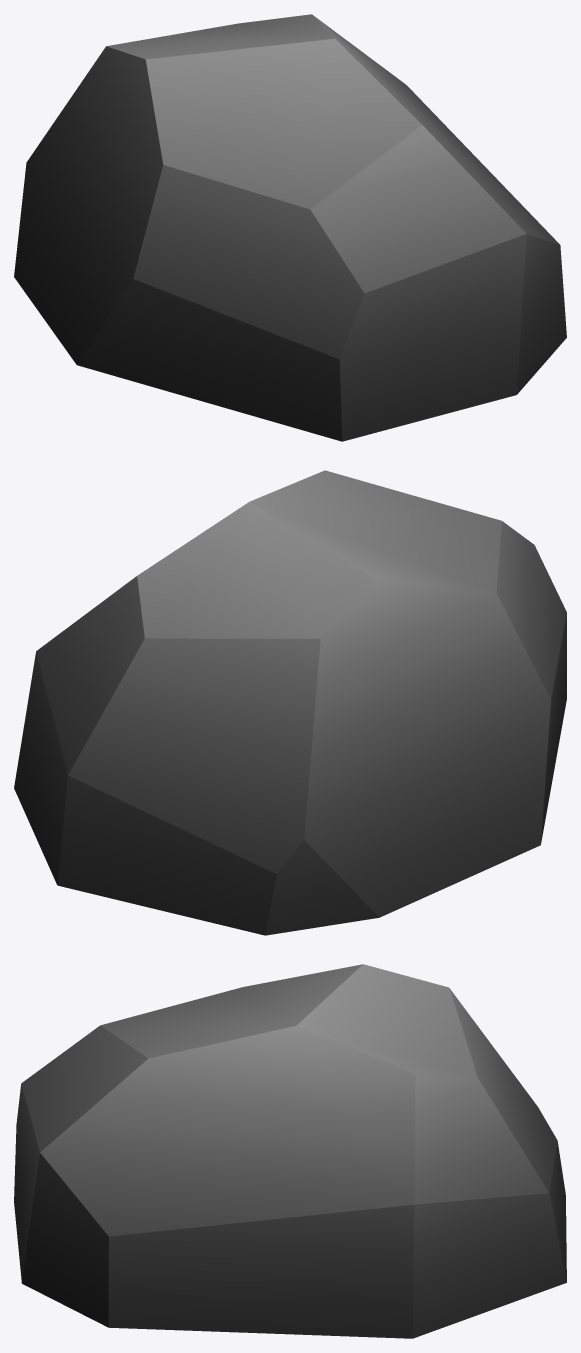
The model's file is stone.fbx.
3 views of the same model, one above another, from view 1: azimuth 30°, elevation 25°; view 2: azimuth 150°, elevation 25°; view 3: azimuth 270°, elevation 25° (orthographic). The views are drawn at different scales.
Visible parts, largest first — view 1: patches_09:stone 4; view 2: patches_09:stone 4; view 3: patches_09:stone 4.
Part boxes in pixels (<box>): patches_09:stone 4: <box>14,14,566,441</box>; patches_09:stone 4: <box>14,470,566,935</box>; patches_09:stone 4: <box>14,964,566,1338</box>.
Size of the model in its own units: 4.01 by 2.35 by 4.88.
